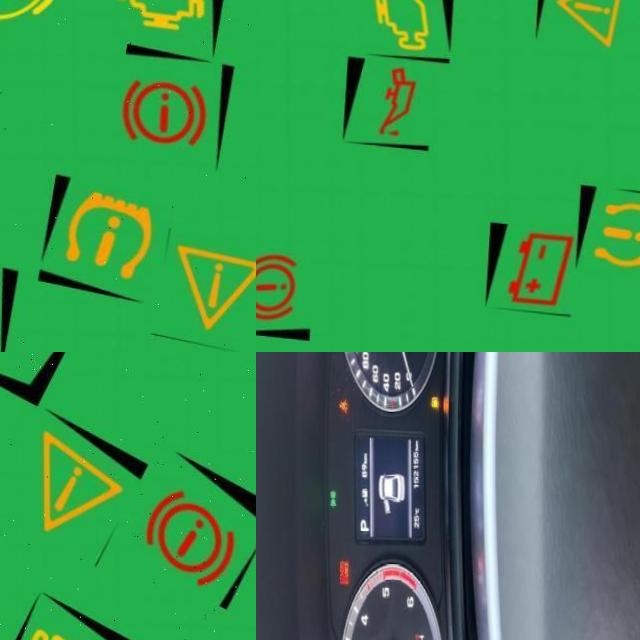Seat Belt: (337, 398, 348, 410)
